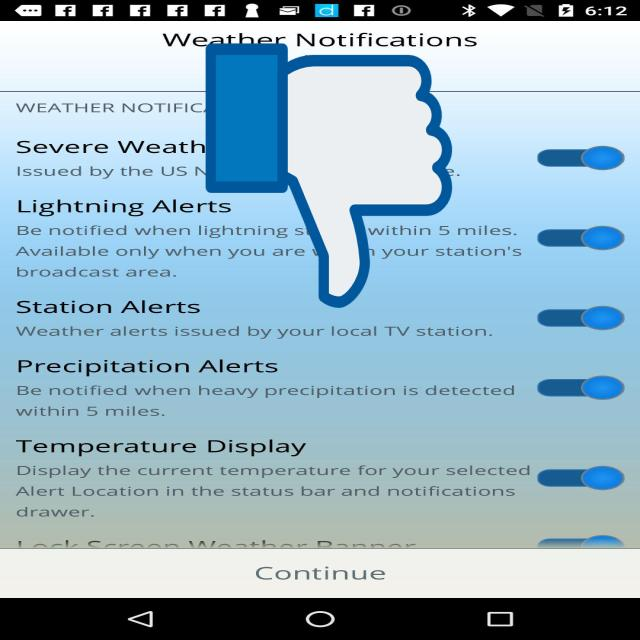obstruction: (206, 38, 452, 314)
